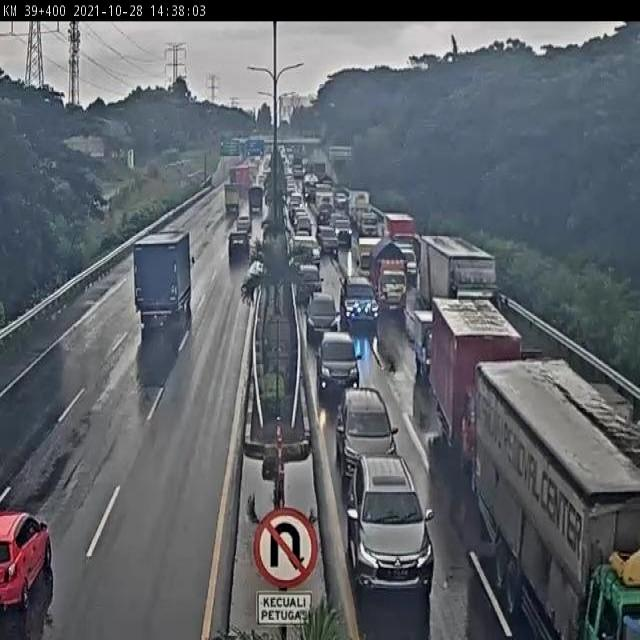Car: (343, 450, 438, 596), (333, 384, 402, 482), (0, 504, 53, 611), (315, 330, 362, 398), (341, 278, 378, 336), (303, 291, 340, 342), (295, 264, 326, 302), (228, 230, 250, 256), (334, 217, 353, 244), (294, 215, 313, 236), (304, 180, 318, 203), (236, 213, 251, 232), (334, 192, 348, 208), (258, 174, 265, 186)
Truck: (469, 357, 640, 640), (428, 297, 522, 454), (418, 234, 510, 320), (130, 229, 196, 328), (370, 236, 407, 314), (413, 308, 437, 379), (384, 211, 418, 252), (394, 240, 419, 284), (356, 235, 383, 275), (357, 206, 379, 236), (224, 182, 242, 216), (248, 184, 264, 215), (230, 163, 248, 190), (245, 163, 259, 182)
